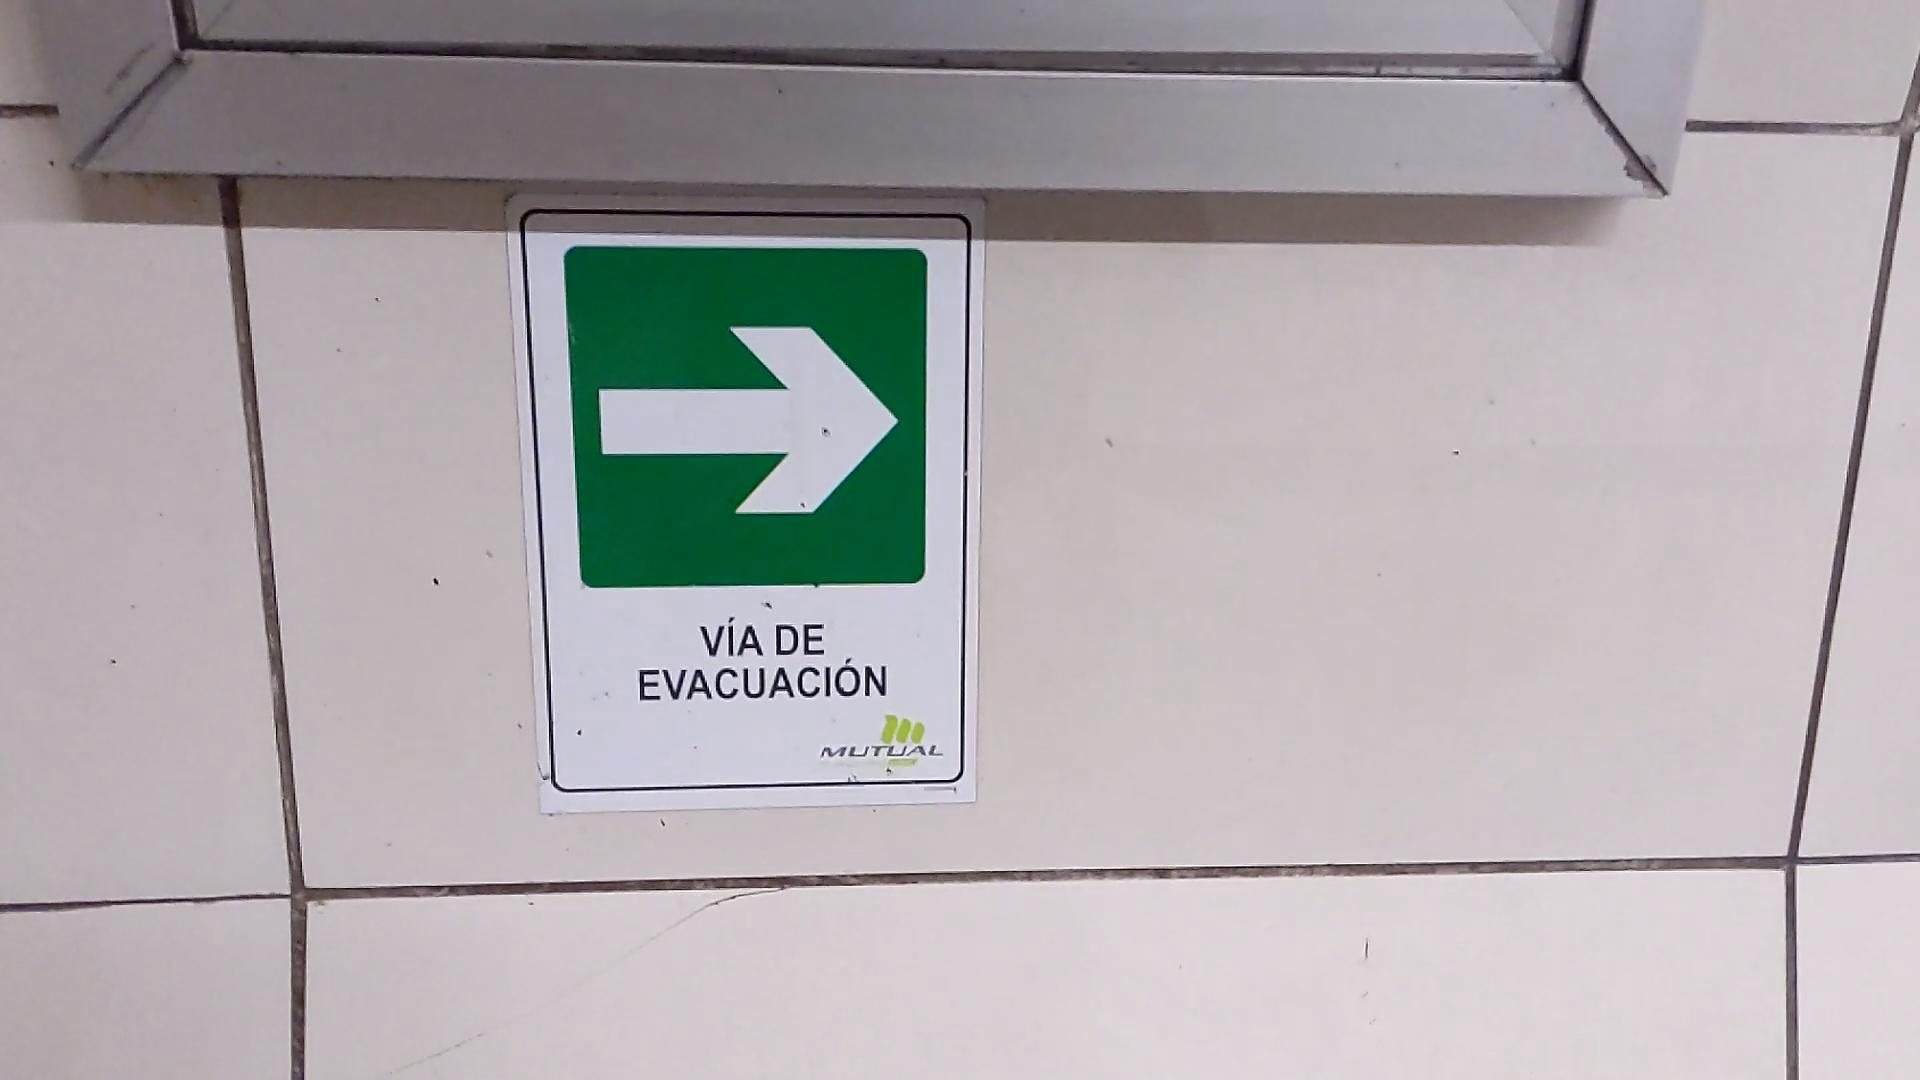emergency right arrow: (589, 310, 906, 524)
